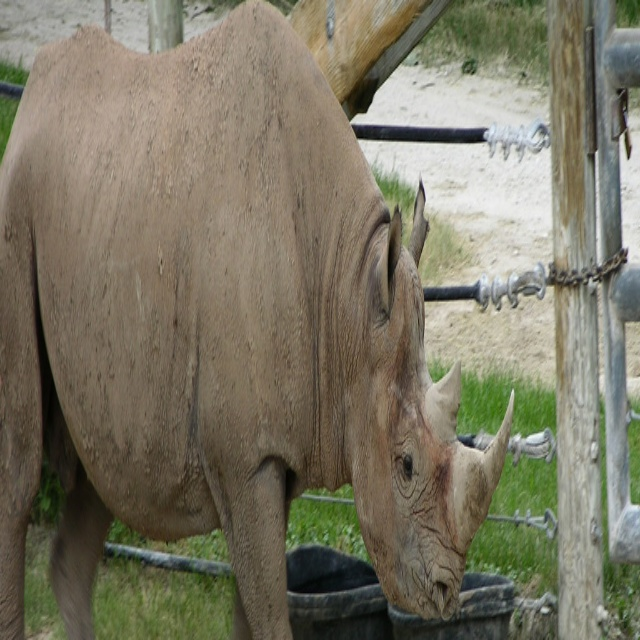Rhinoceros: (0, 0, 515, 639)
